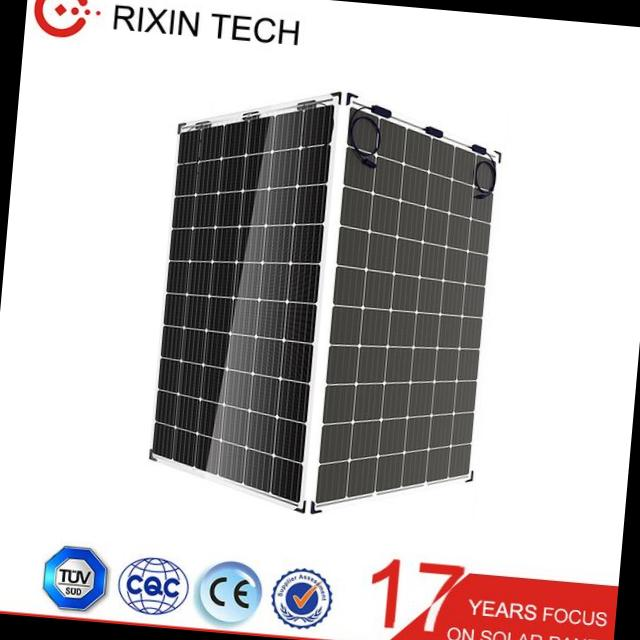no faulty: (316, 105, 493, 504), (153, 110, 332, 502)
